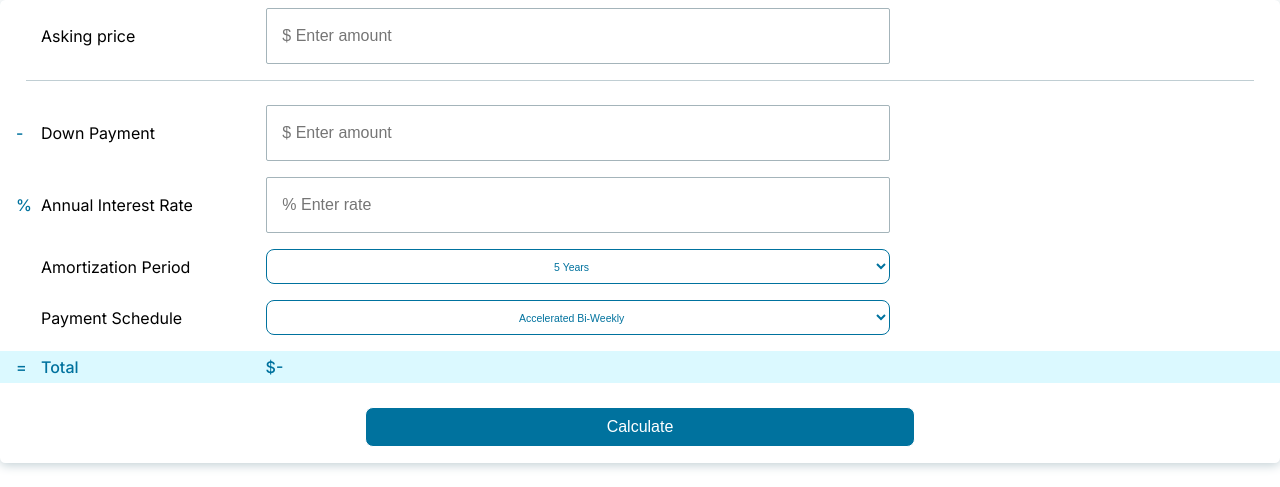
Test: MortgageCalculator Component › handles valid data submission
The width and height of the screenshot is (1280, 487).
Type "999999" into the number field labelled "Asking price" at (578, 36), box [266,8,890,64]
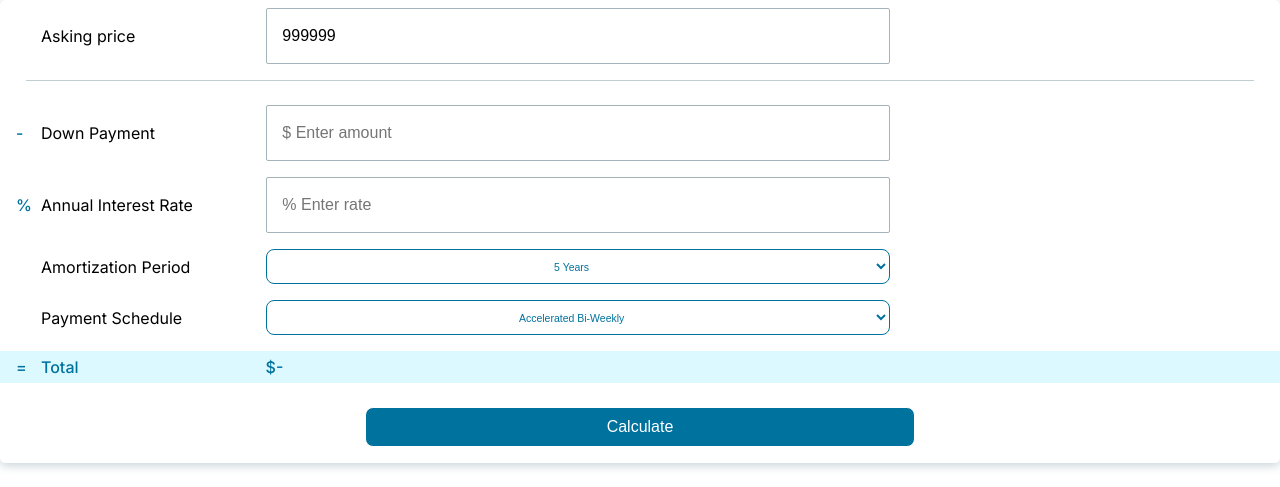
Type "200000" into the number field labelled "Down Payment" at (578, 133), box [266,105,890,161]
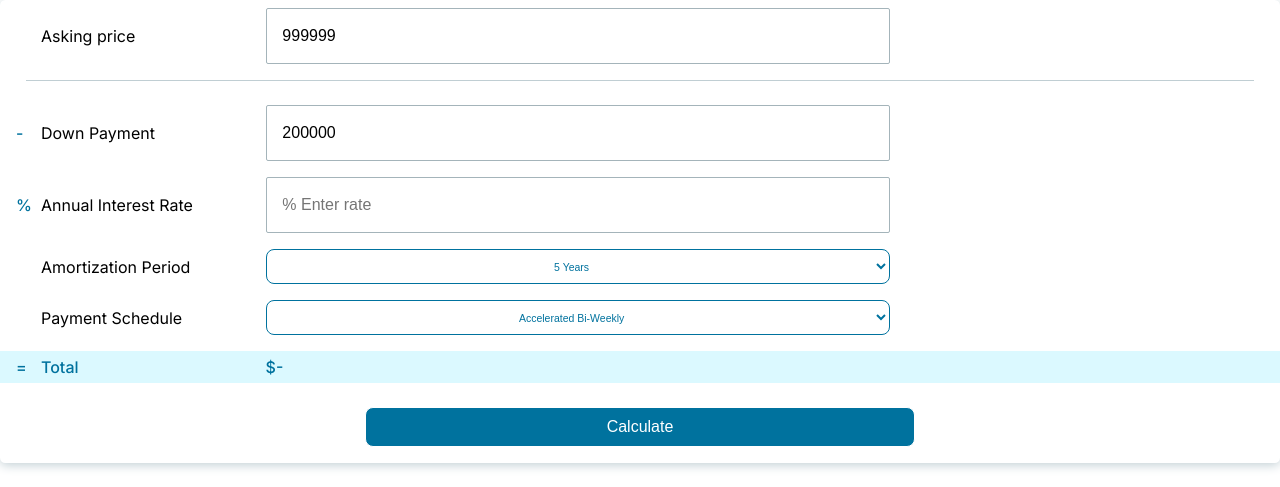
Type "5" into the number field labelled "Annual Interest Rate" at (578, 205), box [266,177,890,233]
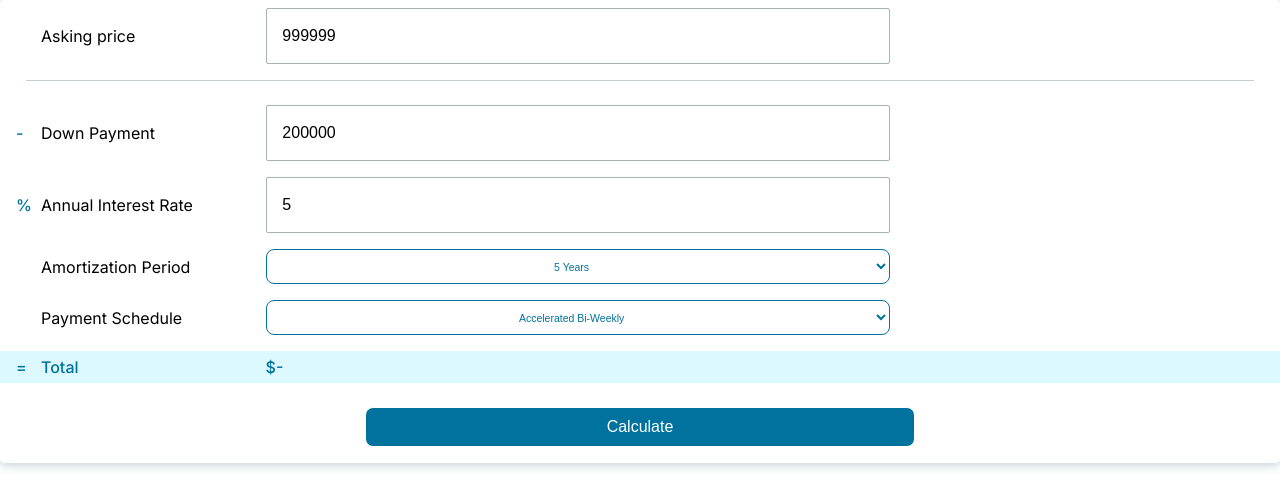
For selects, use the visible text of the options to simulate user selection
Select "25 years" in the dropdown labelled "Amortization Period" at (578, 266), box [266,249,890,284]
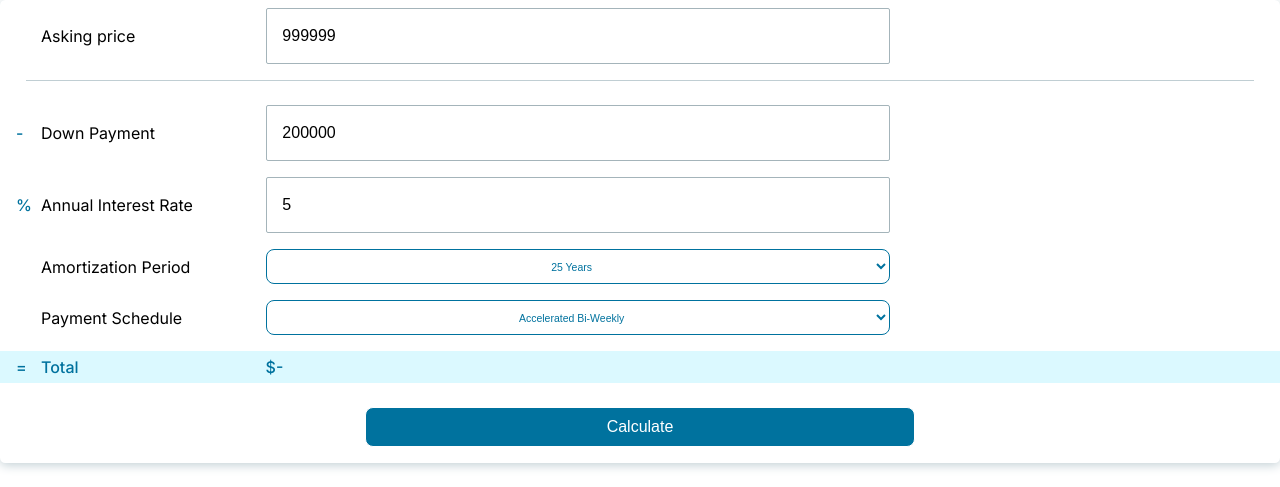
Select "Monthly" in the dropdown labelled "Payment Schedule" at (578, 318), box [266,300,890,335]
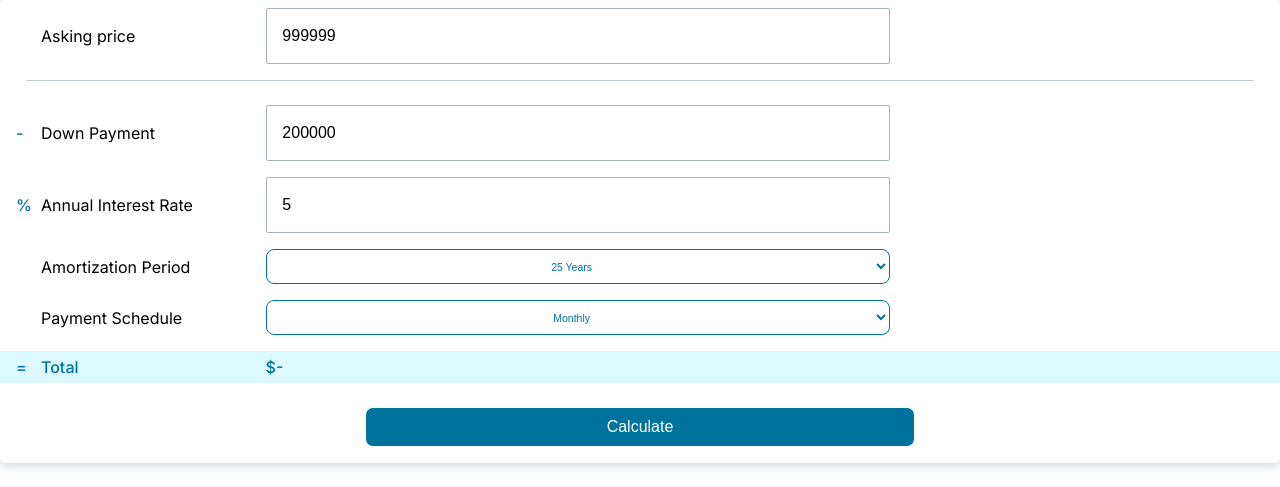
Click the button "Calculate" at (640, 427), box [365,407,915,447]
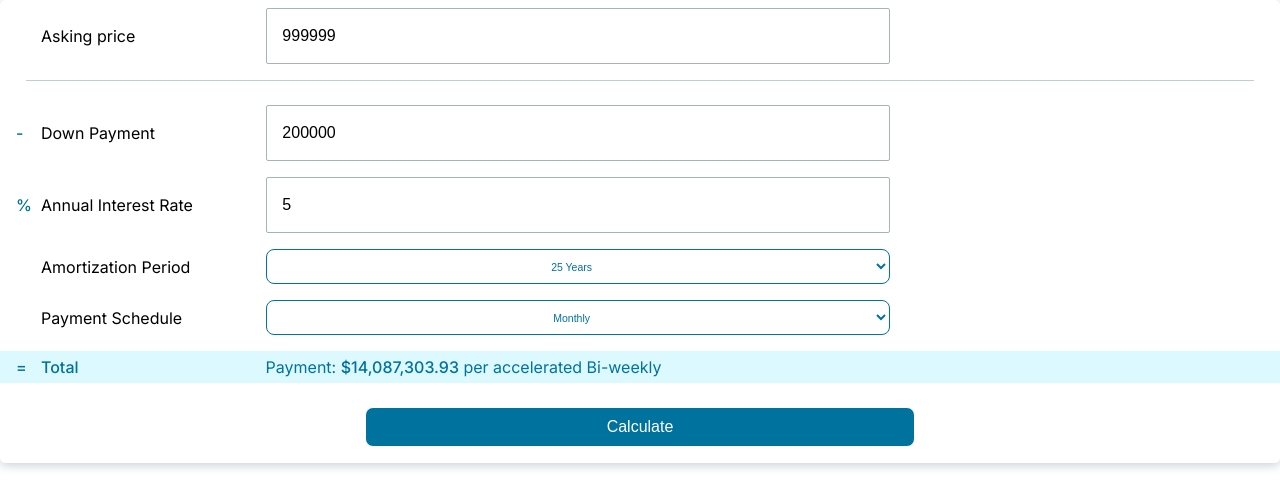
Expected: the text "$14,087,303.93" is shown, [341,357,459,377]
Expected: the text "Payment: $14,087,303.93 per accelerated Bi-weekly" is shown, [266,357,662,377]
